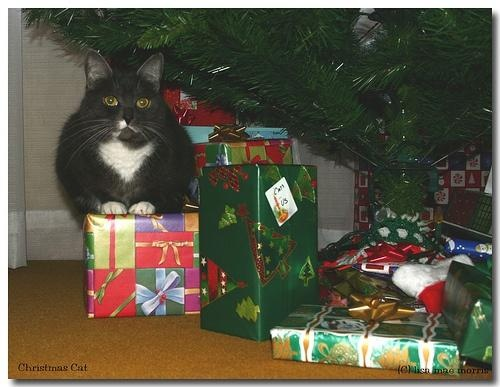cat: (54, 50, 196, 215)
